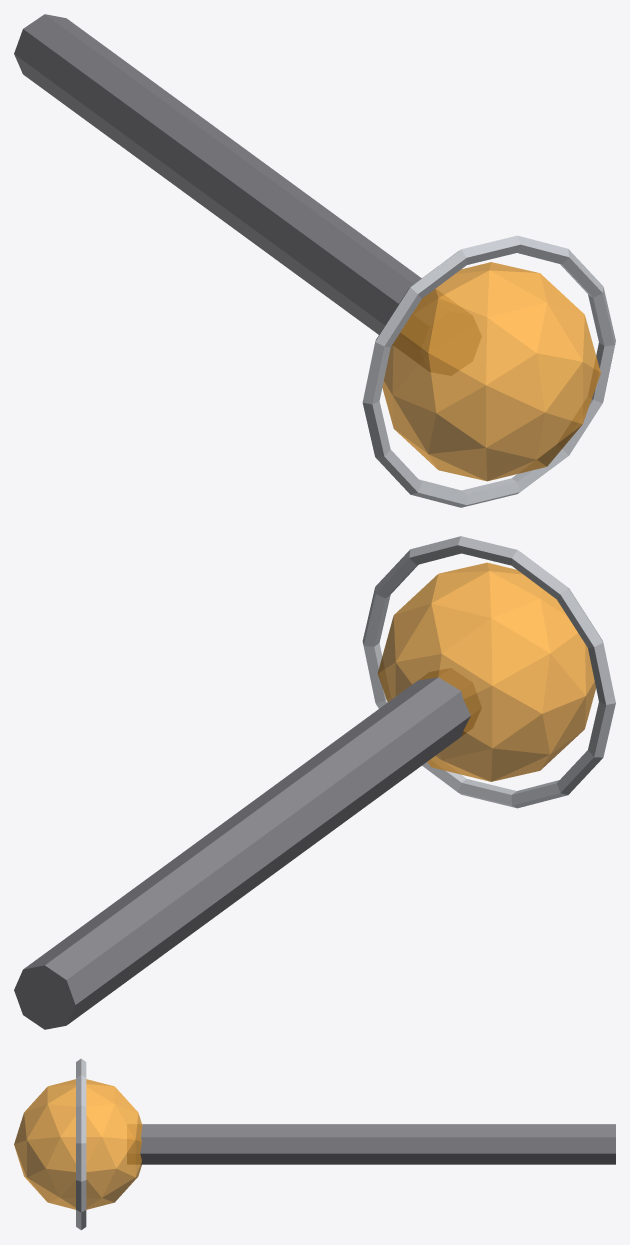
File: forge_lava_lamp.glb
The picture shows the model from 3 angles, top to bottom: view 1: azimuth 30°, elevation 25°; view 2: azimuth 150°, elevation 25°; view 3: azimuth 270°, elevation 25°; orthographic projection. The views are drawn at different scales.
Visible parts, largest first — view 1: post, light_orb, lamp_cage; view 2: post, light_orb, lamp_cage; view 3: post, light_orb, lamp_cage.
Boxes of the visible parts, x1=… form: post: x1=14, y1=14, x2=480, y2=375; light_orb: x1=382, y1=262, x2=600, y2=481; lamp_cage: x1=362, y1=235, x2=615, y2=507; post: x1=14, y1=668, x2=480, y2=1029; light_orb: x1=377, y1=562, x2=595, y2=781; lamp_cage: x1=362, y1=536, x2=615, y2=808; post: x1=127, y1=1124, x2=615, y2=1164; light_orb: x1=14, y1=1079, x2=142, y2=1209; lamp_cage: x1=76, y1=1058, x2=86, y2=1230.
Bounding box in the file's own units: 0.576 × 0.5616 × 1.97.
